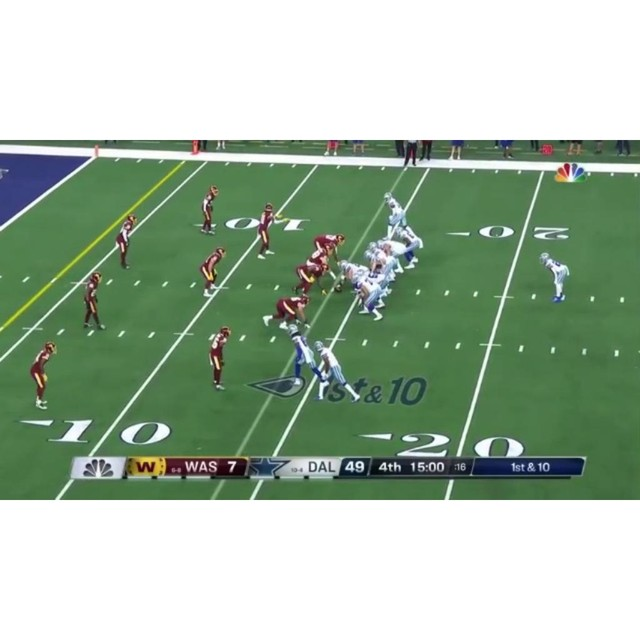american-football-player: (313, 341, 361, 402), (288, 326, 325, 385), (29, 342, 57, 408), (263, 295, 310, 330), (351, 275, 386, 321), (539, 251, 569, 302), (208, 326, 230, 390), (82, 272, 105, 330), (200, 247, 226, 297), (293, 261, 329, 297), (395, 223, 422, 269), (383, 191, 408, 240), (335, 258, 370, 290), (116, 214, 136, 269), (312, 233, 345, 266), (257, 203, 276, 259), (364, 247, 395, 281), (200, 184, 219, 235)
